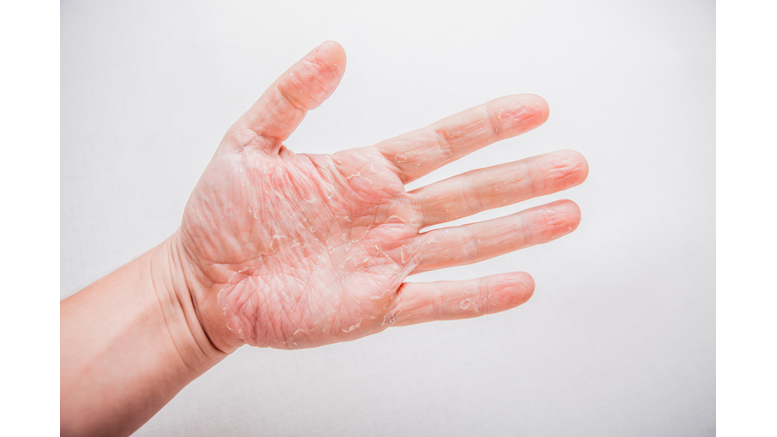Diseased: (248, 86, 535, 342)
